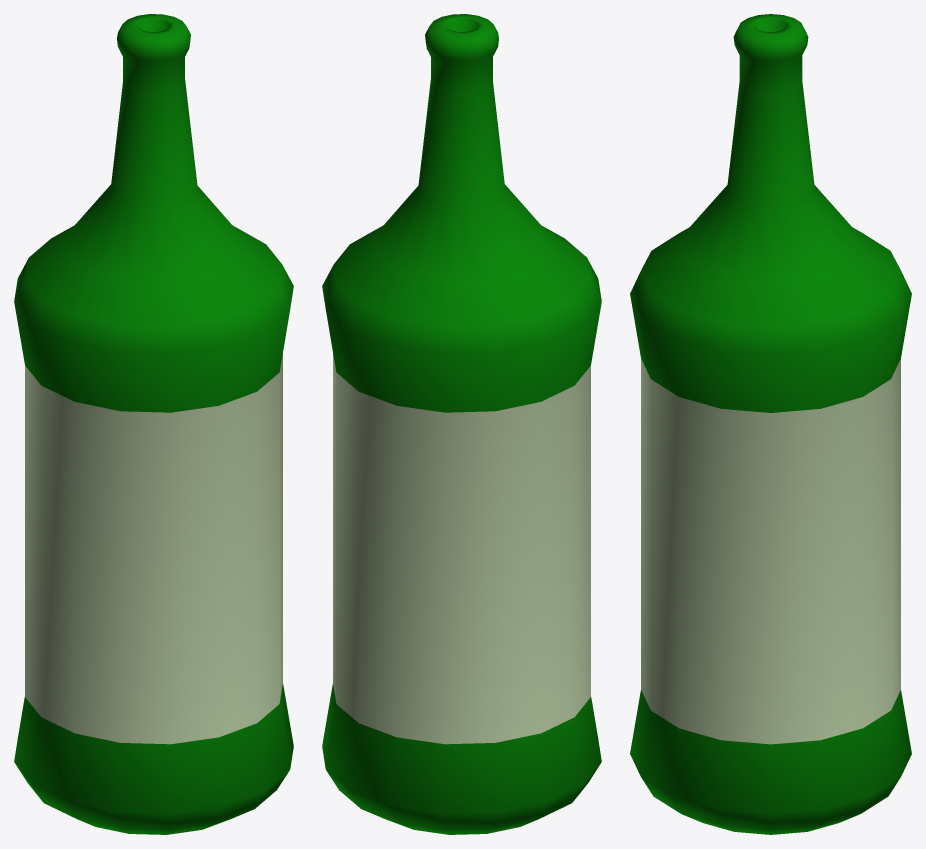
File: bottle.dae
The picture shows the model from 3 angles, left to right: view 1: azimuth 30°, elevation 25°; view 2: azimuth 150°, elevation 25°; view 3: azimuth 270°, elevation 25°; orthographic projection.
Parts seen in each view (by area): view 1: Bottle-0; view 2: Bottle-0; view 3: Bottle-0.
Boxes of the visible parts, left/top/right/bottom form: Bottle-0: left=14, top=14, right=293, bottom=834; Bottle-0: left=322, top=14, right=601, bottom=834; Bottle-0: left=630, top=14, right=911, bottom=834.
Bounding box in the file's own units: 0.2794 × 0.8405 × 0.2794.
